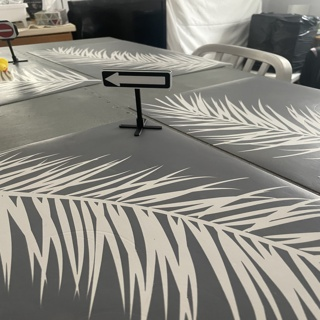sign_oneway_left: (100, 69, 170, 87)
